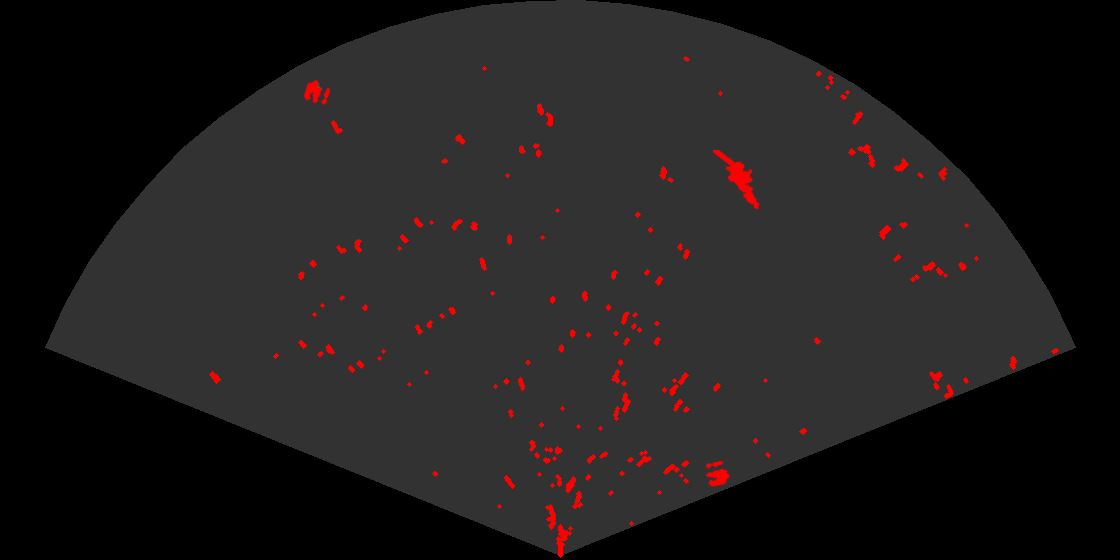ball: (302, 78, 332, 107), (704, 459, 731, 488)
frogman: (713, 150, 761, 211)
